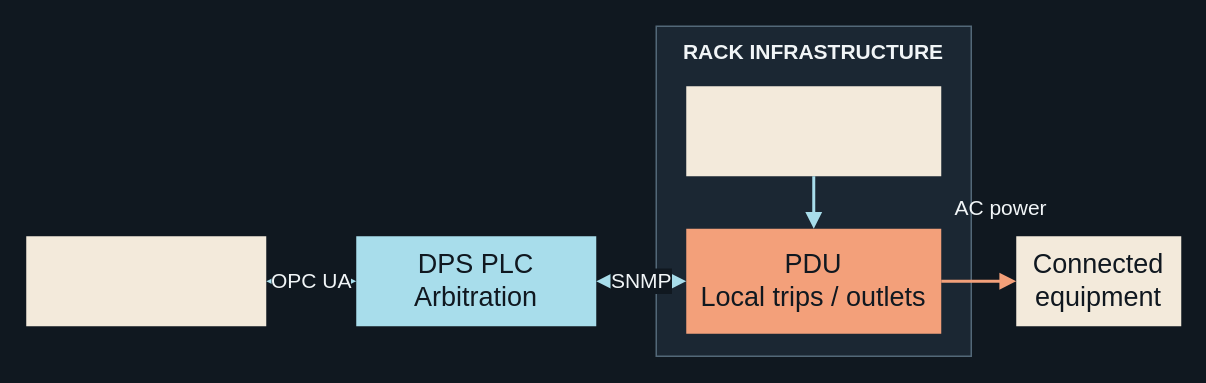
This 1206x383 diagram has some shape labels left out. The centre of each missing label's shape, as x and y in pixels:
SC / Ignition Logs and requests: the point at 146,281
Smoke / humidity Temperature / leak: the point at 813,131
